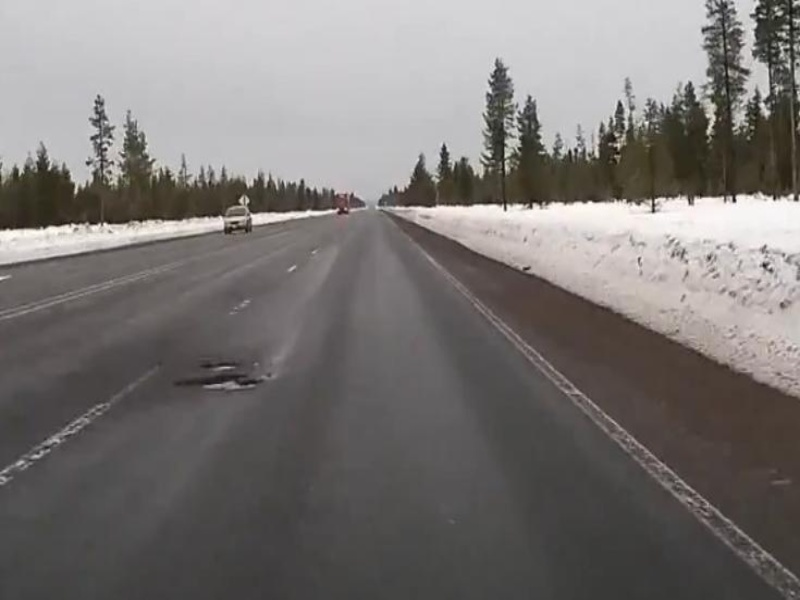pothole: (176, 357, 270, 396)
